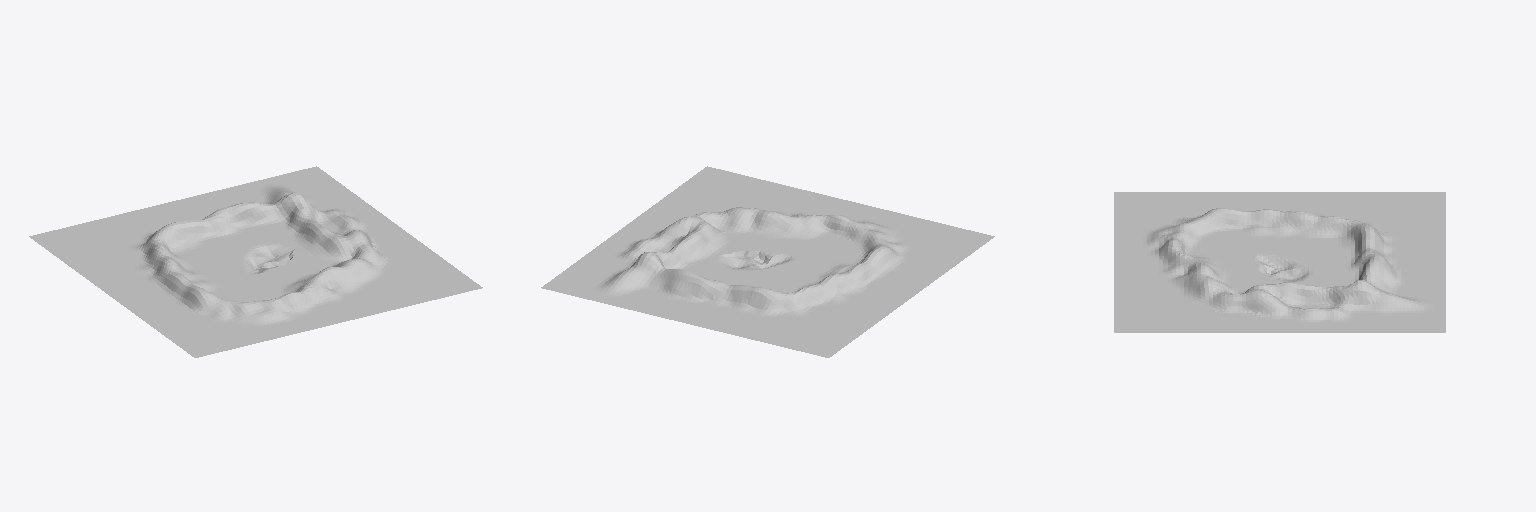
The model's file is badly_made_terrain.obj.
3 views of the same model, side by side, from view 1: azimuth 30°, elevation 25°; view 2: azimuth 150°, elevation 25°; view 3: azimuth 270°, elevation 25° (orthographic).
Parts seen in each view (by area): view 1: Grid; view 2: Grid; view 3: Grid.
Part boxes in pixels (x1,y1,x2,y2): Grid: (29,166,482,357); Grid: (541,166,994,357); Grid: (1114,192,1445,332).
Size of the model in its own units: 60.2 by 5.31 by 60.2.